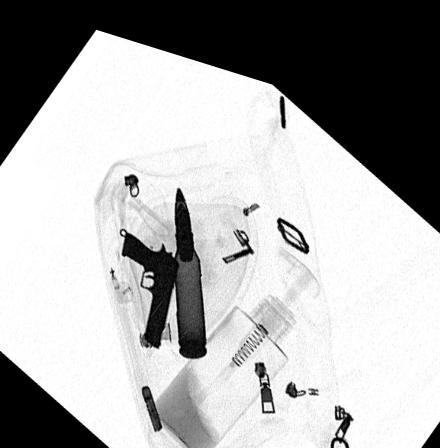Bullet: (173, 175, 207, 346)
Gun: (116, 221, 178, 337)
